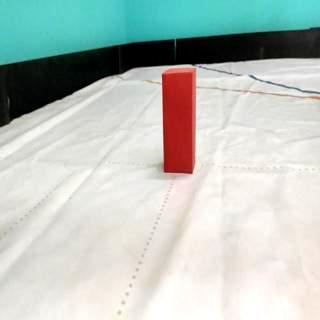redbox: (162, 66, 196, 175)
